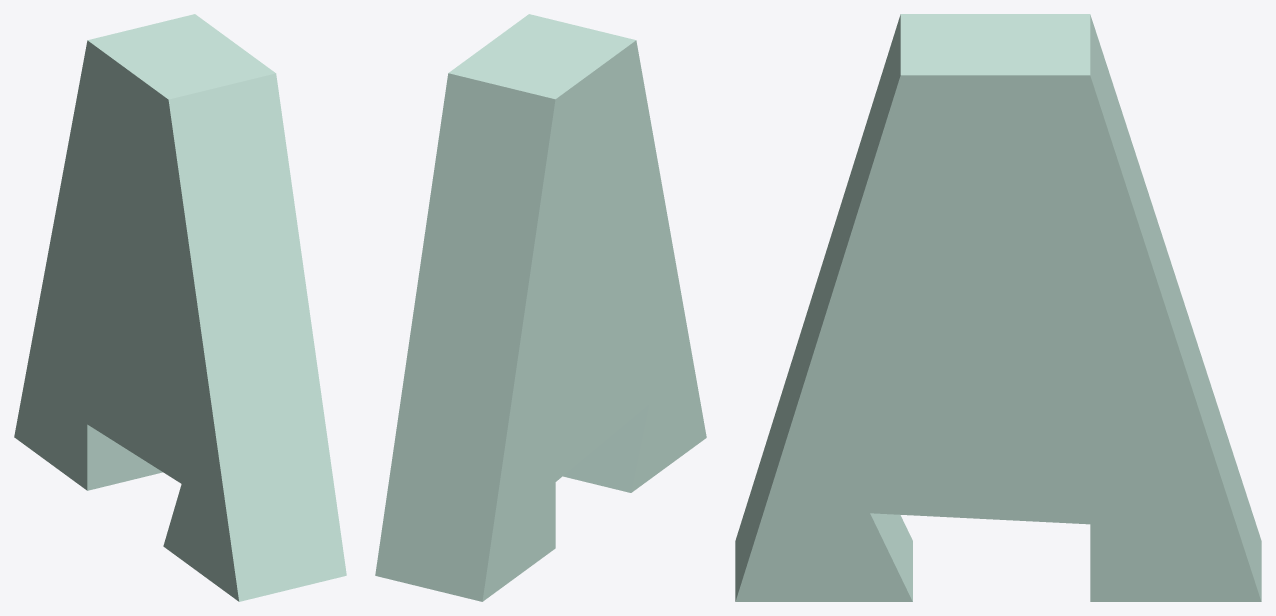
The picture shows the model from 3 angles, left to right: view 1: azimuth 30°, elevation 25°; view 2: azimuth 150°, elevation 25°; view 3: azimuth 270°, elevation 25°; orthographic projection. The views are drawn at different scales.
Parts seen in each view (by area): view 1: Renderer Node; view 2: Renderer Node; view 3: Renderer Node.
Boxes of the visible parts, left/top/right/bottom form: Renderer Node: left=14, top=14, right=346, bottom=601; Renderer Node: left=375, top=14, right=706, bottom=601; Renderer Node: left=735, top=14, right=1261, bottom=601.
Bounding box in the file's own units: 0.1875 × 0.75 × 0.6789.
